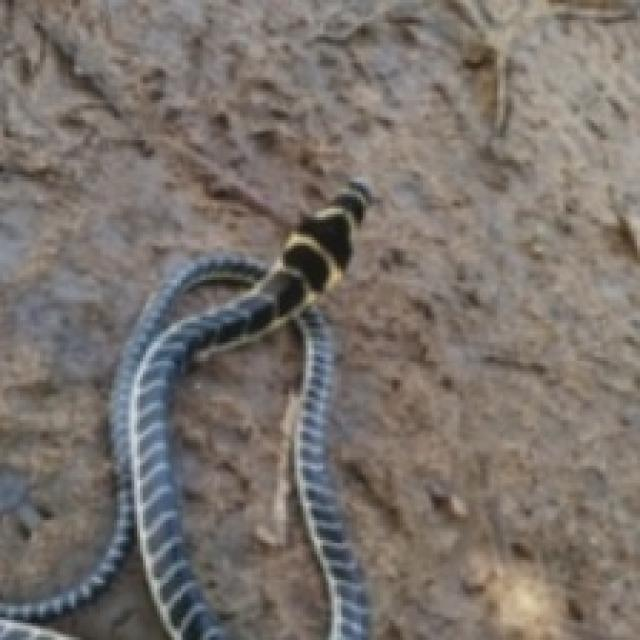king cobra: (0, 180, 369, 637)
